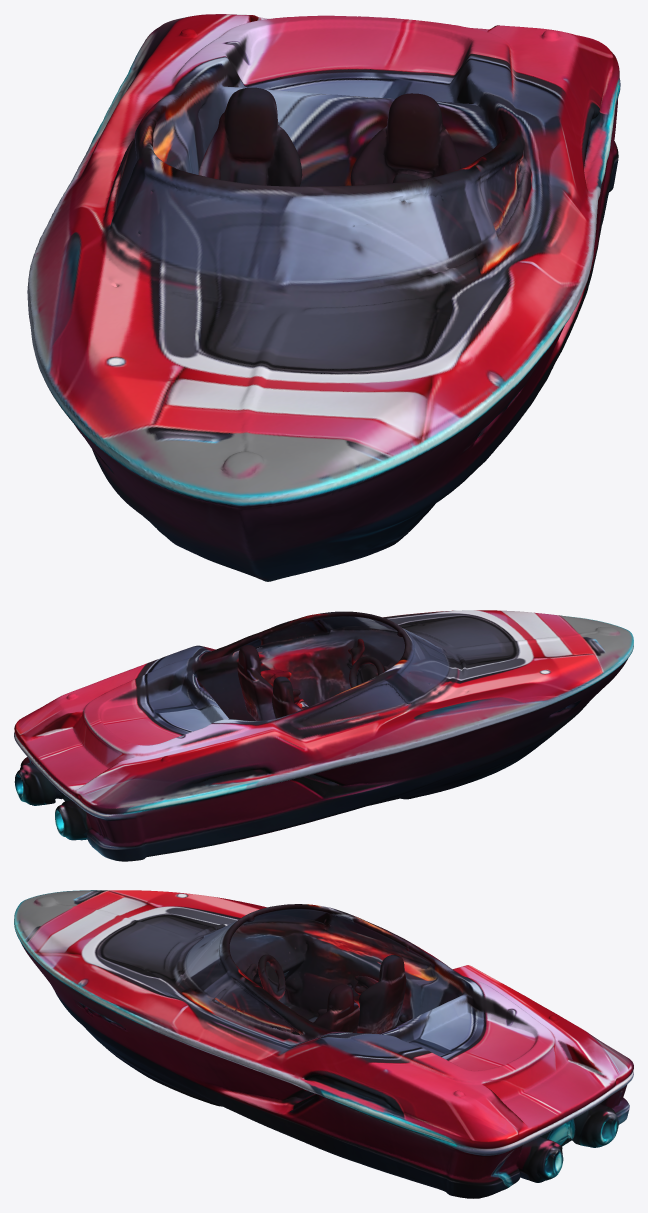
File: speedboat_fixed.glb
The picture shows the model from 3 angles, top to bottom: view 1: azimuth 30°, elevation 25°; view 2: azimuth 150°, elevation 25°; view 3: azimuth 270°, elevation 25°; orthographic projection. The views are drawn at different scales.
Parts seen in each view (by area): view 1: tripo_node_c041b5b4-dfd6-4a77-a6b4-03ec5a171a4f; view 2: tripo_node_c041b5b4-dfd6-4a77-a6b4-03ec5a171a4f; view 3: tripo_node_c041b5b4-dfd6-4a77-a6b4-03ec5a171a4f.
Boxes of the visible parts, left/top/right/bottom form: tripo_node_c041b5b4-dfd6-4a77-a6b4-03ec5a171a4f: left=27, top=14, right=620, bottom=581; tripo_node_c041b5b4-dfd6-4a77-a6b4-03ec5a171a4f: left=14, top=610, right=633, bottom=861; tripo_node_c041b5b4-dfd6-4a77-a6b4-03ec5a171a4f: left=14, top=890, right=633, bottom=1198.
Size of the model in its own units: 0.8504 by 0.301 by 1.
1 material, 1 textured.
